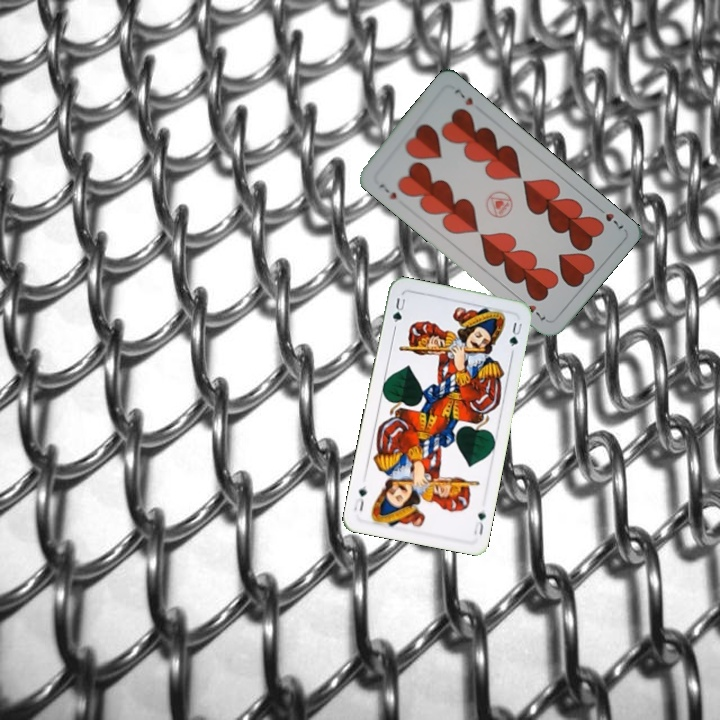GU: (388, 293, 408, 325), (470, 505, 488, 538)
H7: (593, 202, 626, 232), (375, 179, 399, 202)
